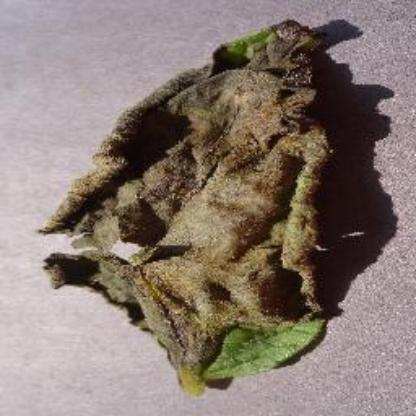Late-Blight: (39, 20, 341, 394)
